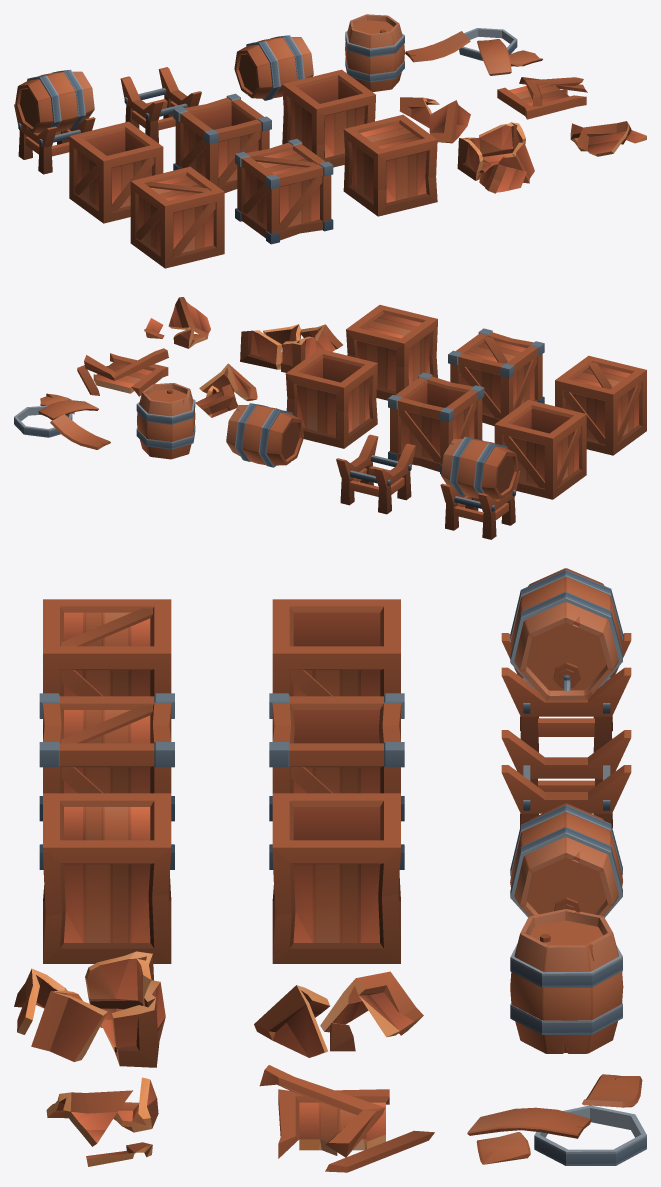
File: Boxes and Barrel.fbx
The picture shows the model from 3 angles, top to bottom: view 1: azimuth 30°, elevation 25°; view 2: azimuth 150°, elevation 25°; view 3: azimuth 270°, elevation 25°; orthographic projection. The views are drawn at different scales.
Parts seen in each view (by area): view 1: Box, Box.002, Box.001, Box_Opened.002, Box_Opened.001, Box_Opened, Barrel_withSupport, Barrel, Box_destroyed, Barrel.001, Barrel_destroyed, Barrel_Support (+3 smaller); view 2: Box_Opened, Box_Opened.002, Box_Opened.001, Box.002, Barrel_withSupport, Box, Box.001, Barrel, Barrel.001, Barrel_Support, Box_destroyed, Box_destroyed.003 (+3 smaller); view 3: Box_Opened, Box.001, Barrel_withSupport, Barrel, Box, Box_Opened.001, Box.002, Box_Opened.002, Box_destroyed, Barrel.001, Box_destroyed.003, Barrel_destroyed (+3 smaller).
Part boxes in pixels (<box>): Box: <box>235,139,333,244</box>; Box.002: <box>130,166,224,268</box>; Box.001: <box>343,114,437,216</box>; Box_Opened.002: <box>69,121,163,223</box>; Box_Opened.001: <box>173,93,271,192</box>; Box_Opened: <box>282,69,375,167</box>; Barrel_withSupport: <box>14,69,95,174</box>; Barrel: <box>345,14,404,91</box>; Box_destroyed: <box>457,122,534,193</box>; Barrel.001: <box>234,35,313,100</box>; Barrel_destroyed: <box>405,28,542,75</box>; Barrel_Support: <box>120,67,201,143</box>; Box_Opened: <box>285,349,377,448</box>; Box_Opened.002: <box>494,400,586,499</box>; Box_Opened.001: <box>388,372,484,474</box>; Box.002: <box>555,355,646,455</box>; Barrel_withSupport: <box>440,437,520,539</box>; Box: <box>448,328,544,426</box>; Box.001: <box>346,305,437,400</box>; Barrel: <box>136,383,195,459</box>; Barrel.001: <box>226,403,303,467</box>; Barrel_Support: <box>336,434,415,514</box>; Box_destroyed: <box>240,324,342,372</box>; Box_destroyed.003: <box>77,348,168,396</box>; Box_Opened: <box>272,793,400,963</box>; Box.001: <box>43,793,171,963</box>; Barrel_withSupport: <box>501,568,631,752</box>; Barrel: <box>510,909,623,1053</box>; Box: <box>39,693,174,869</box>; Box_Opened.001: <box>269,693,404,869</box>; Box.002: <box>43,599,171,696</box>; Box_Opened.002: <box>272,599,400,696</box>; Box_destroyed: <box>14,951,165,1067</box>; Barrel.001: <box>510,803,622,917</box>; Box_destroyed.003: <box>259,1065,434,1172</box>; Barrel_destroyed: <box>467,1074,646,1165</box>.
Size of the model in its own units: 4.69 by 0.7788 by 2.76.
